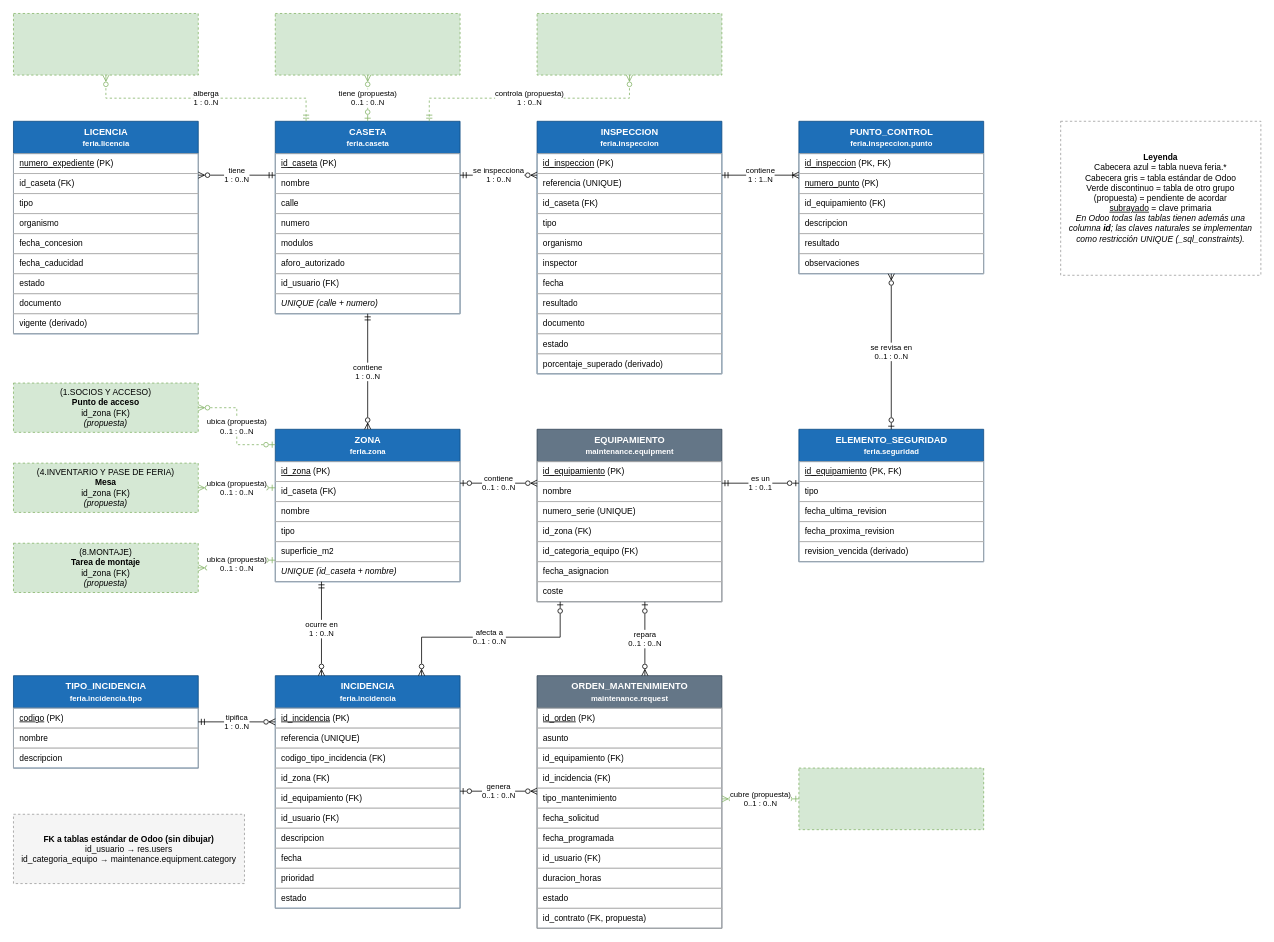
Image size: 1274x942. Some labels were removed from this diagram. The centre of each missing label's shape, as x and y in pixels:
(1.SOCIOS Y ACCESO) Control de aforo id_caseta (FK) (propuesta): the point at 629,44
(3.CONTRATOS Y PROVEEDORES) Contrato id_caseta (FK) (propuesta): the point at 367,44
(3.CONTRATOS Y PROVEEDORES) Contrato id_contrato (PK) (propuesta): the point at 891,798
(6.EVENTOS) Evento id_caseta (FK): the point at 105,44
